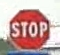stop: (8, 7, 49, 51)
